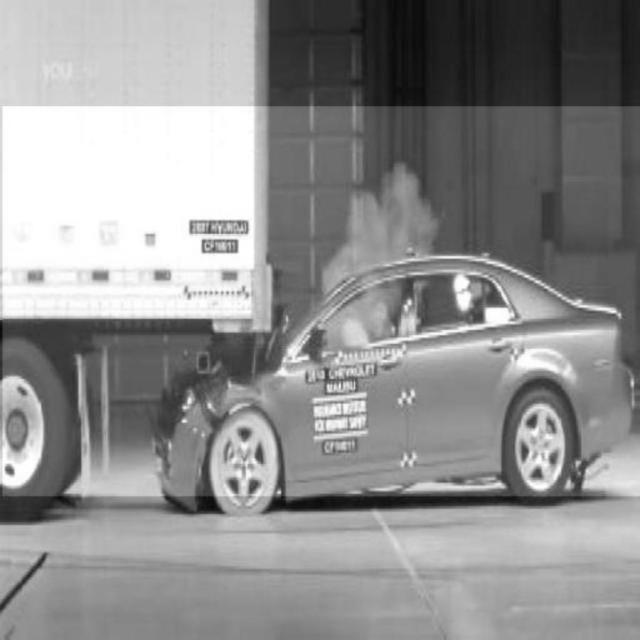accident: (3, 107, 640, 497)
